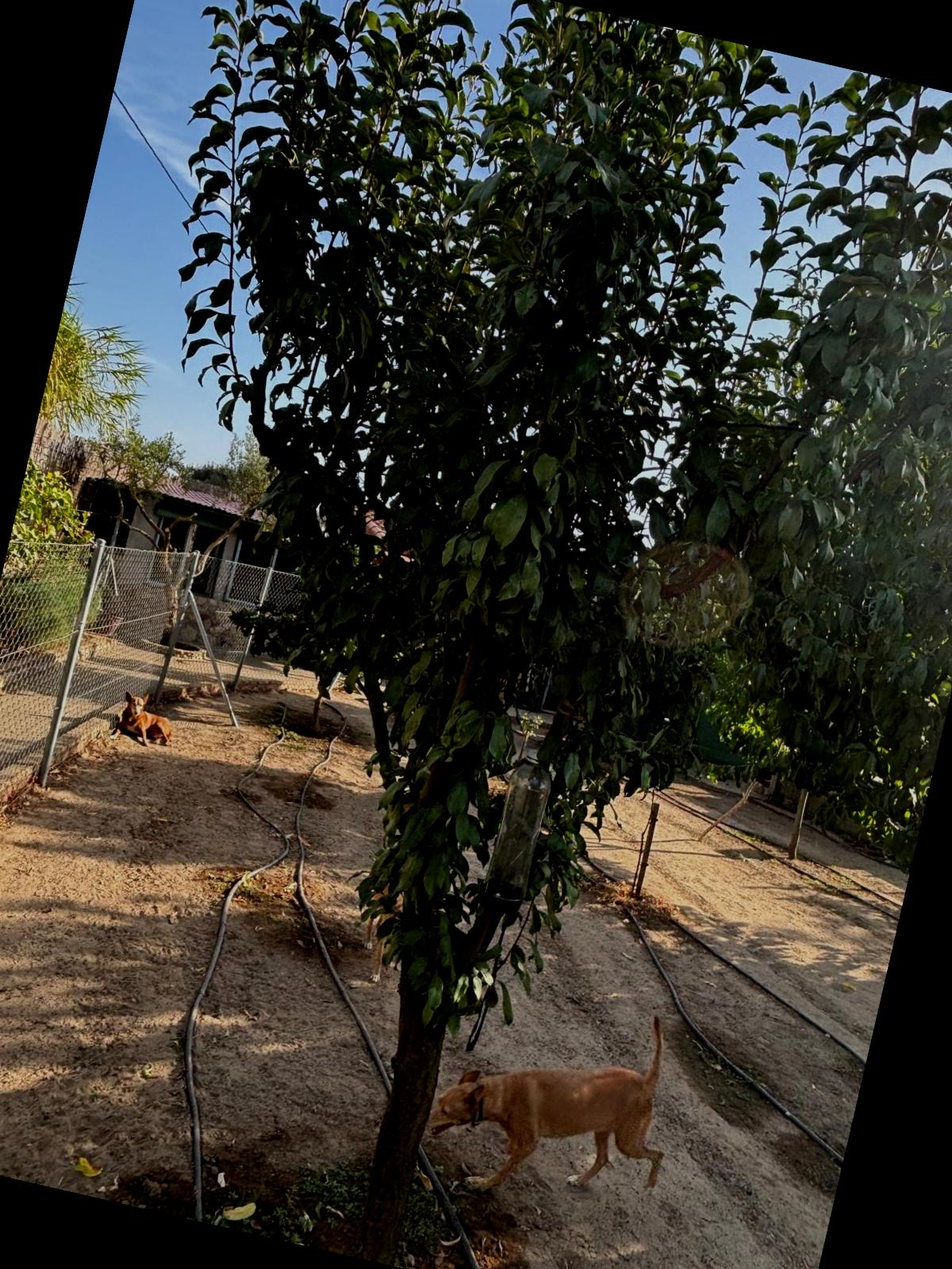ciruelo: (63, 94, 878, 1269)
